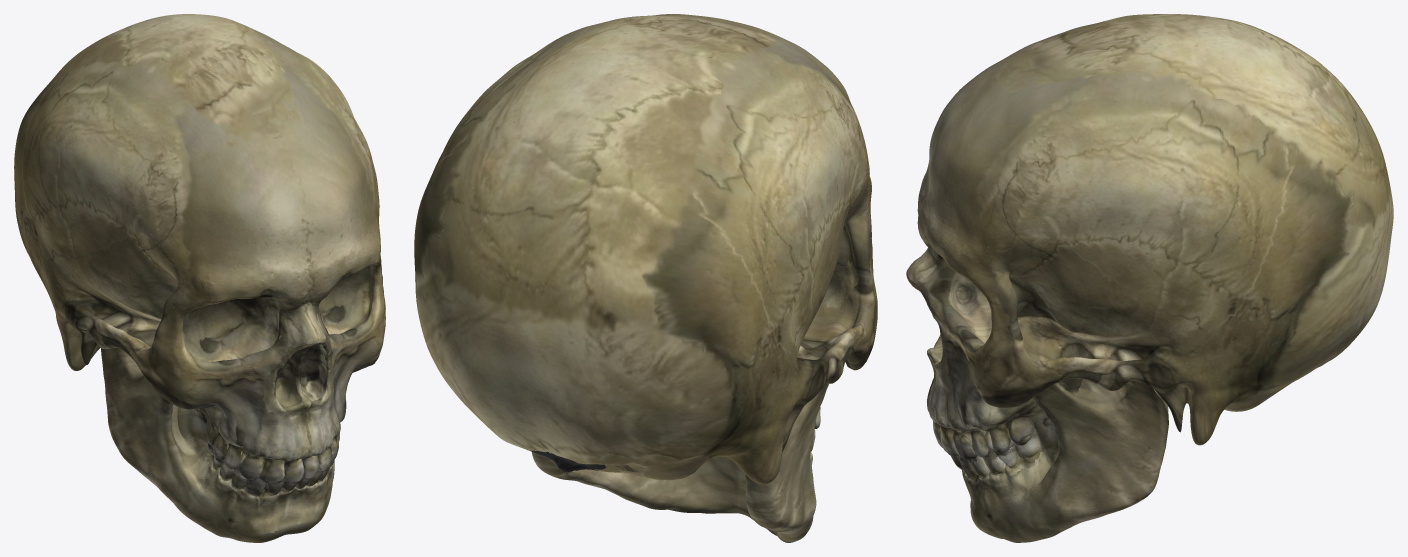
The model's file is skull.glb.
3 views of the same model, side by side, from view 1: azimuth 30°, elevation 25°; view 2: azimuth 150°, elevation 25°; view 3: azimuth 270°, elevation 25° (orthographic). The views are drawn at different scales.
Parts seen in each view (by area): view 1: Male skull.001; view 2: Male skull.001; view 3: Male skull.001.
Boxes of the visible parts, box(x1,y1,x2,y2) form: Male skull.001: box(14, 14, 385, 542); Male skull.001: box(414, 14, 877, 542); Male skull.001: box(906, 14, 1393, 542).
Size of the model in its own units: 0.1615 by 0.2464 by 0.2222.
1 material, 1 textured.
